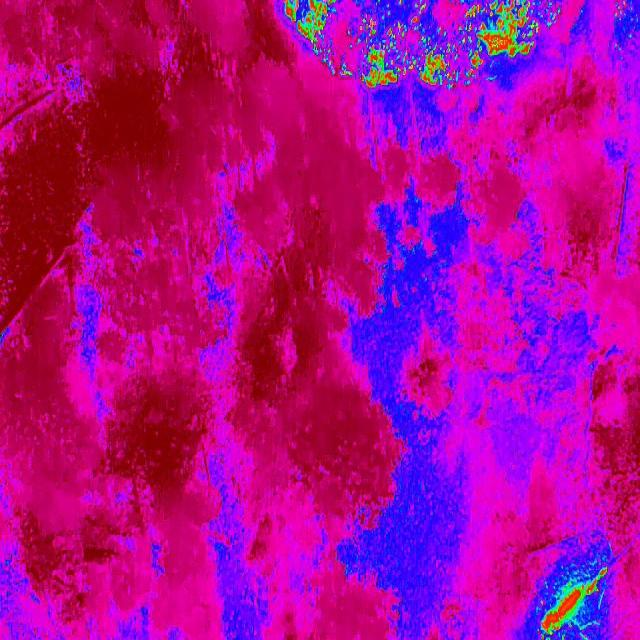fire: (272, 0, 564, 91), (533, 557, 612, 640)
